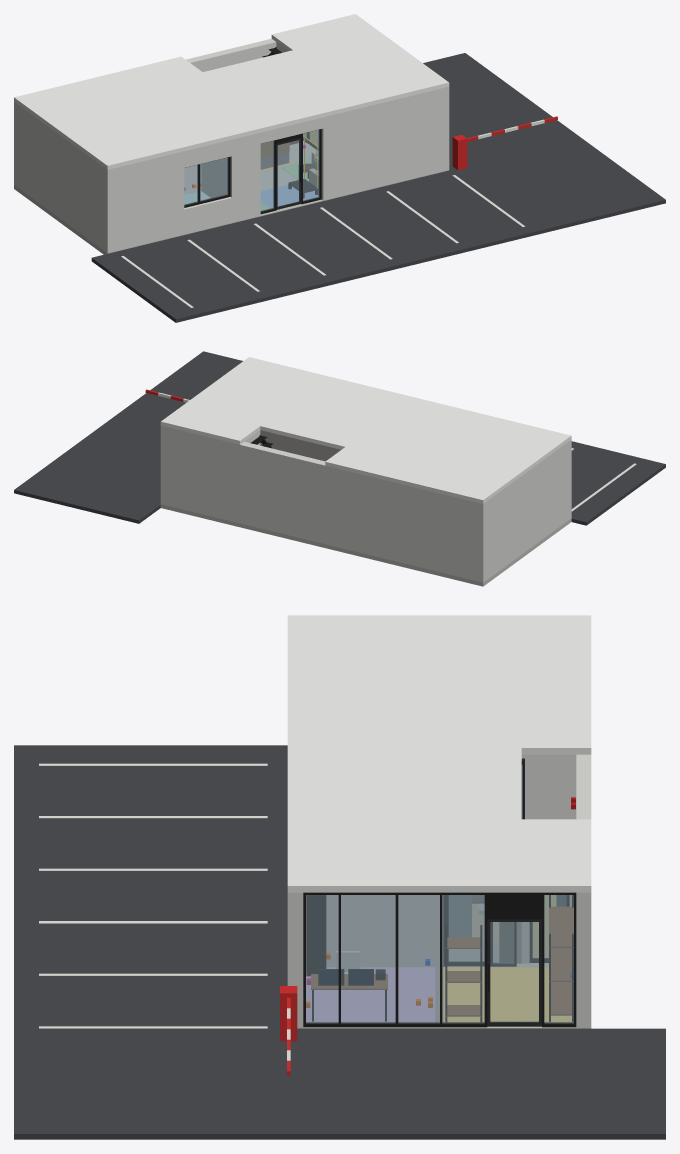
Rendered from BLM_Lobby_v4.dae.
The picture shows the model from 3 angles, top to bottom: view 1: azimuth 30°, elevation 25°; view 2: azimuth 150°, elevation 25°; view 3: azimuth 270°, elevation 25°; orthographic projection. The views are drawn at different scales.
Parts seen in each view (by area): view 1: asphalt, wall_dark, slab, glass, steel, floor, line, wall, barrier, z_arrive, alu; view 2: wall_dark, slab, asphalt, floor, wall_grey; view 3: asphalt, slab, glass, wall, steel, z_lug, z_office, wall_dark, wood, line, alu, floor (+3 smaller).
Part boxes in pixels (bbox=[...]): asphalt: bbox=[91, 53, 665, 322]; wall_dark: bbox=[14, 38, 449, 253]; slab: bbox=[14, 14, 449, 169]; glass: bbox=[184, 130, 319, 211]; steel: bbox=[184, 47, 321, 214]; floor: bbox=[14, 140, 448, 254]; line: bbox=[121, 119, 544, 307]; wall: bbox=[184, 42, 288, 197]; barrier: bbox=[452, 116, 557, 170]; z_arrive: bbox=[260, 185, 318, 208]; alu: bbox=[276, 132, 318, 209]; wall_dark: bbox=[160, 425, 571, 582]; slab: bbox=[160, 357, 571, 503]; asphalt: bbox=[14, 351, 665, 525]; floor: bbox=[160, 504, 571, 586]; wall_grey: bbox=[260, 430, 340, 461]; asphalt: bbox=[14, 745, 665, 1139]; slab: bbox=[287, 615, 591, 892]; glass: bbox=[306, 764, 573, 1023]; wall: bbox=[306, 754, 576, 1022]; steel: bbox=[303, 892, 576, 1027]; z_lug: bbox=[443, 895, 573, 1022]; z_office: bbox=[306, 967, 435, 1022]; wall_dark: bbox=[287, 754, 591, 1027]; wood: bbox=[311, 906, 573, 1016]; line: bbox=[39, 763, 290, 1060]; alu: bbox=[443, 758, 569, 1026]; floor: bbox=[297, 941, 591, 1028].
Size of the model in its own units: 18480 by 13110 by 3300.
